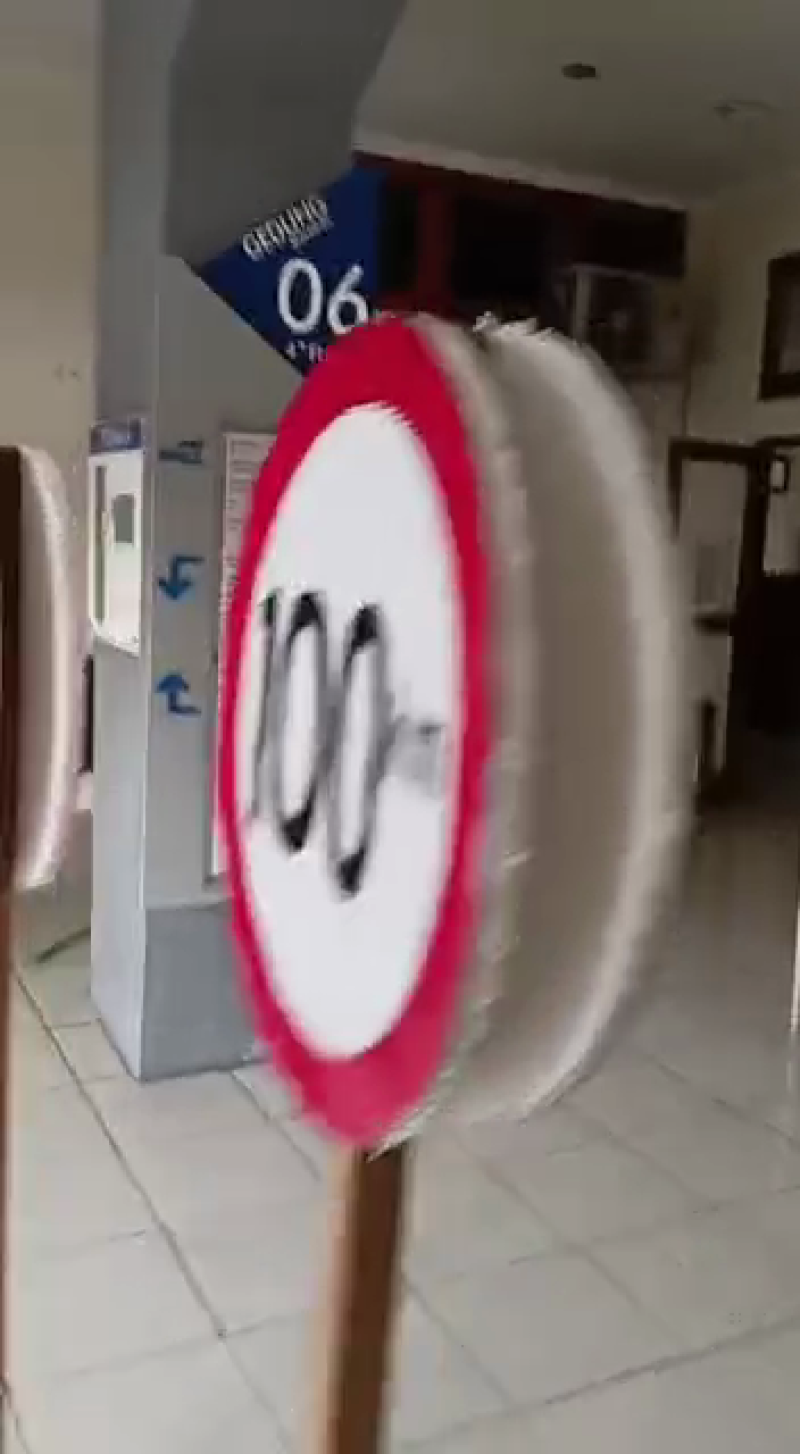batas maksimal 100kmperjam: (205, 324, 488, 1161)
